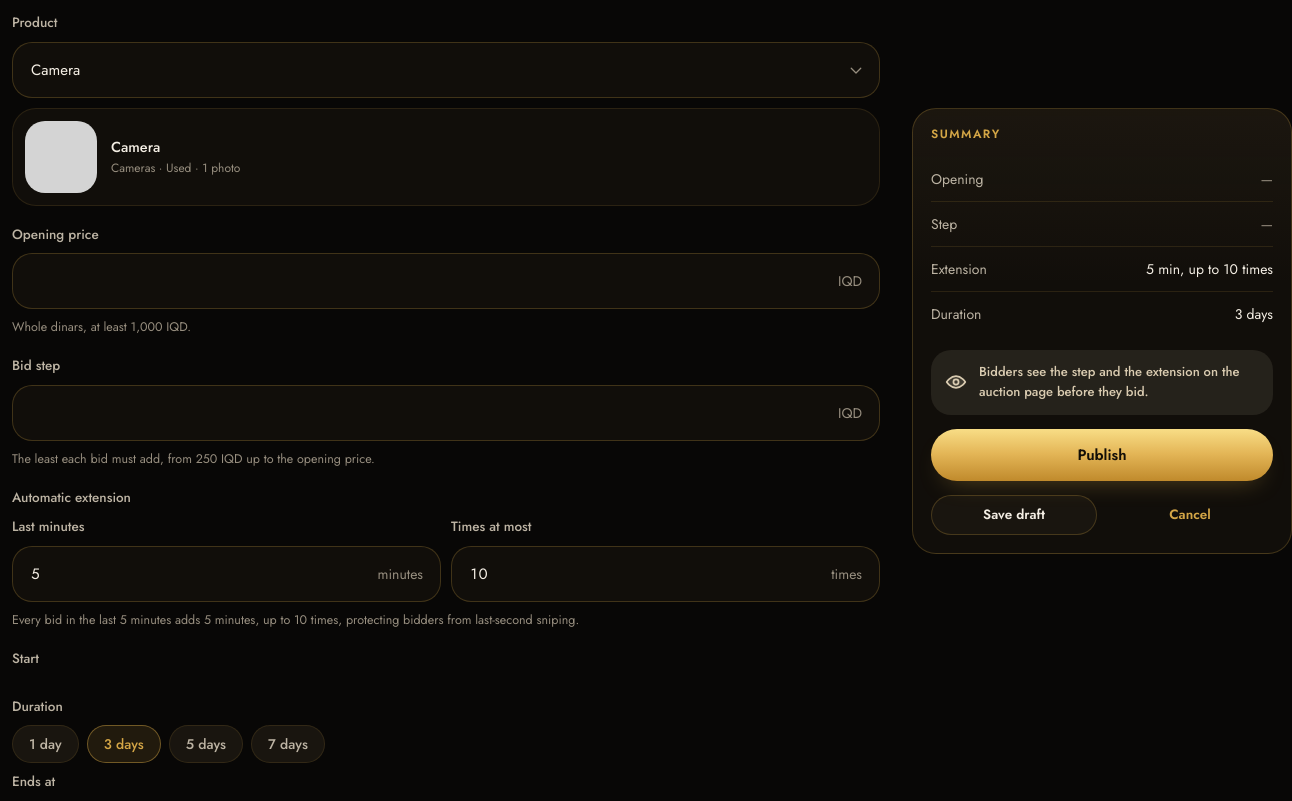
Test case: AuctionForm: the seller sets the step and the extension › sends the step and the extension, and shows INVALID_BID_STEP under the step
Type "400000" into the field with test id "auction-startingPrice". click: (446, 281)
box: [12,253,880,309]
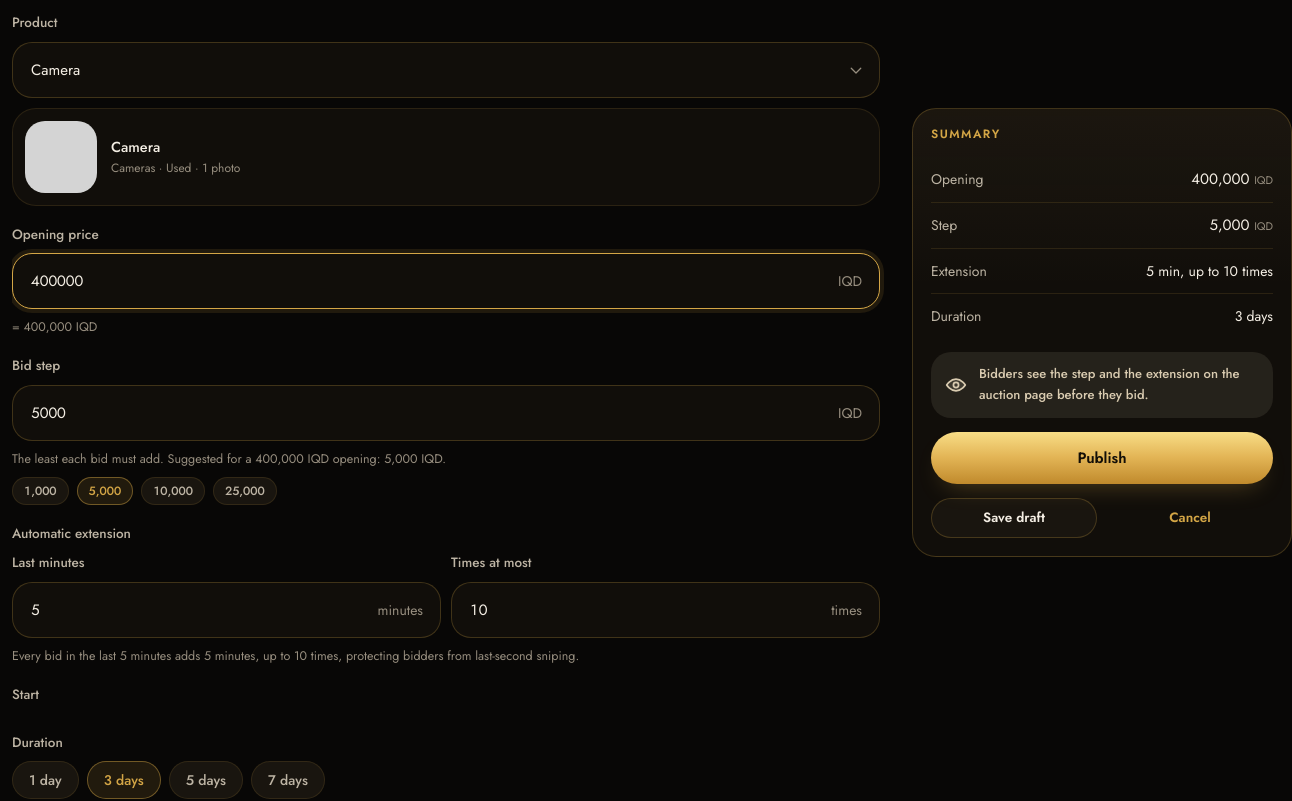
Replace the text in the field with test id "auction-maxExtensions" with "3". click: (666, 610)
box: [451,582,880,638]
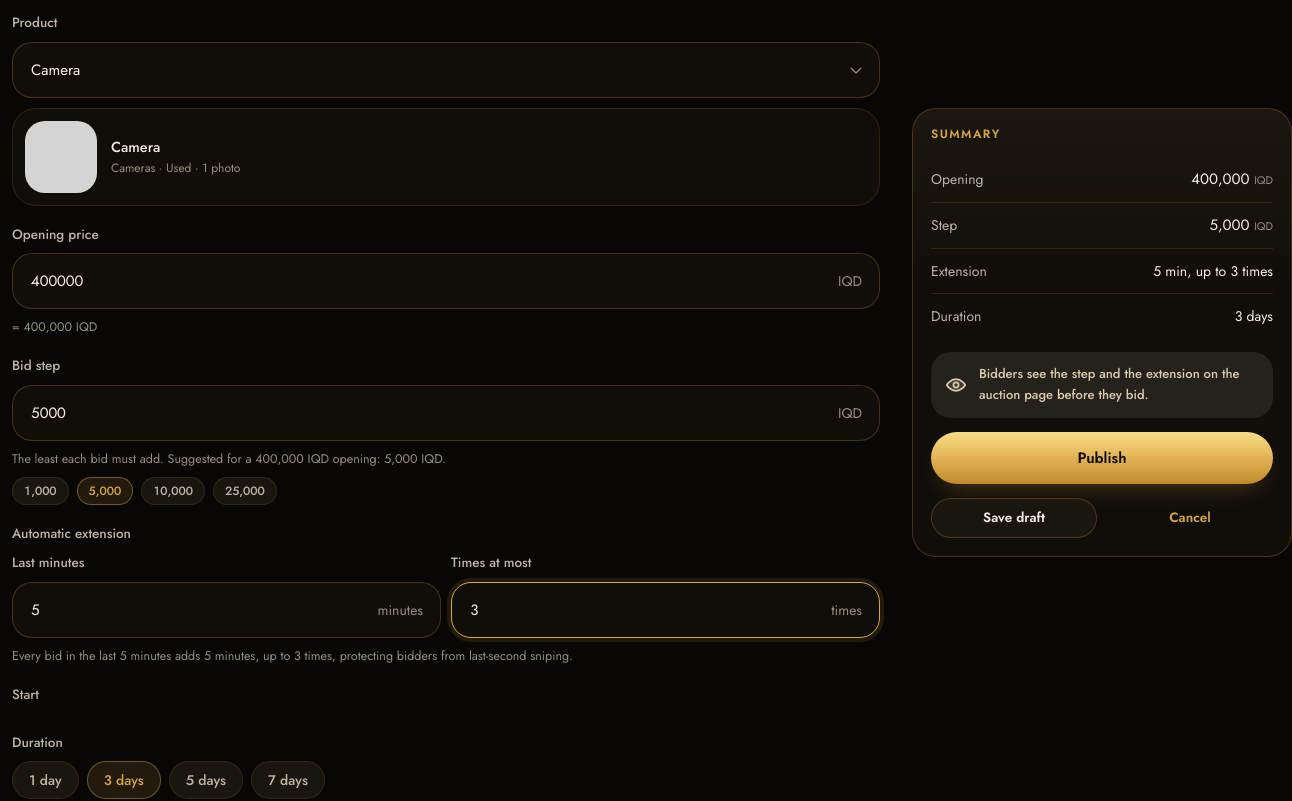
Click the button with test id "auction-save-draft". click: (1014, 518)
box: [931,498,1097,538]
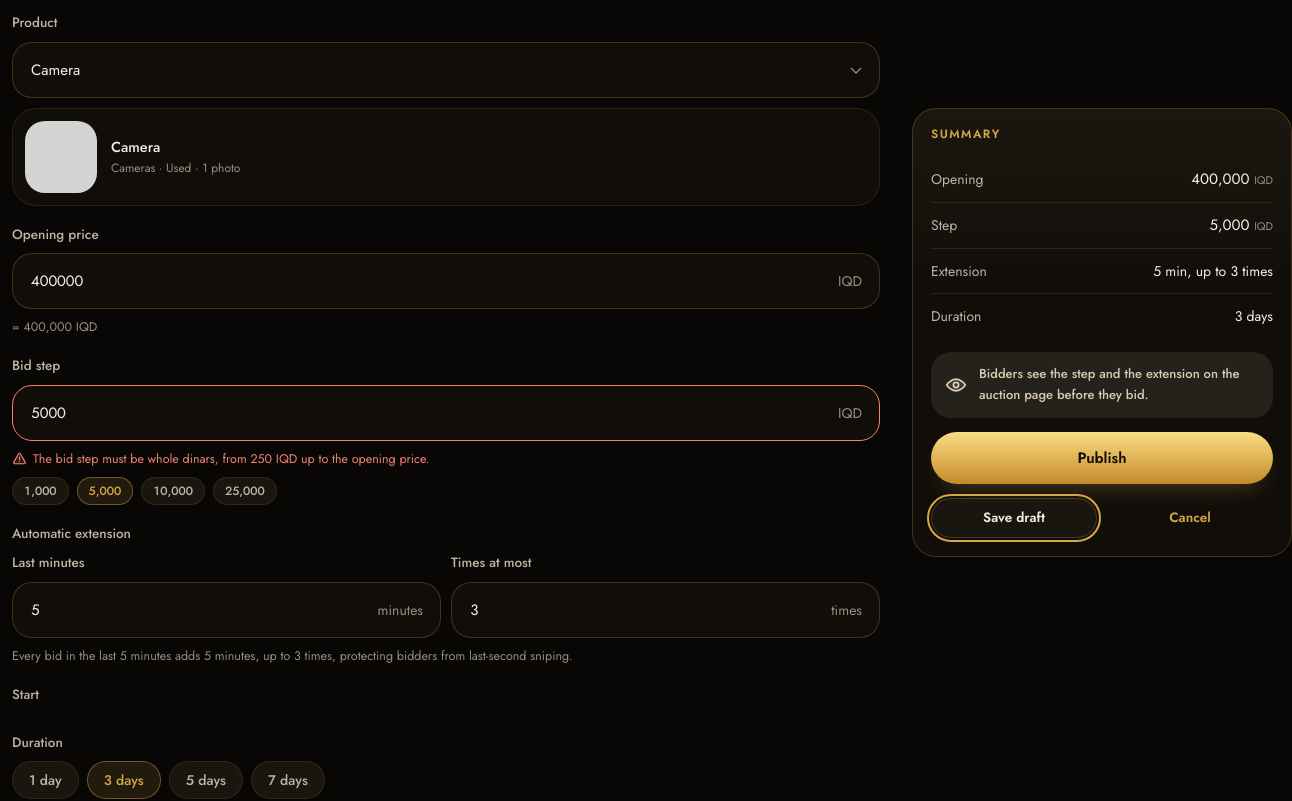
Check: the text "The bid step must be whole dinars, from 250 IQD up to the opening price." is shown, box [12,450,430,468]
